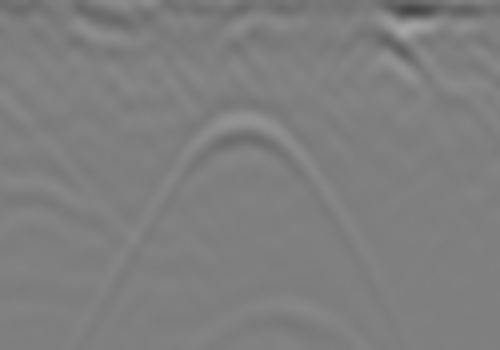hyperbola: (75, 107, 435, 343)
